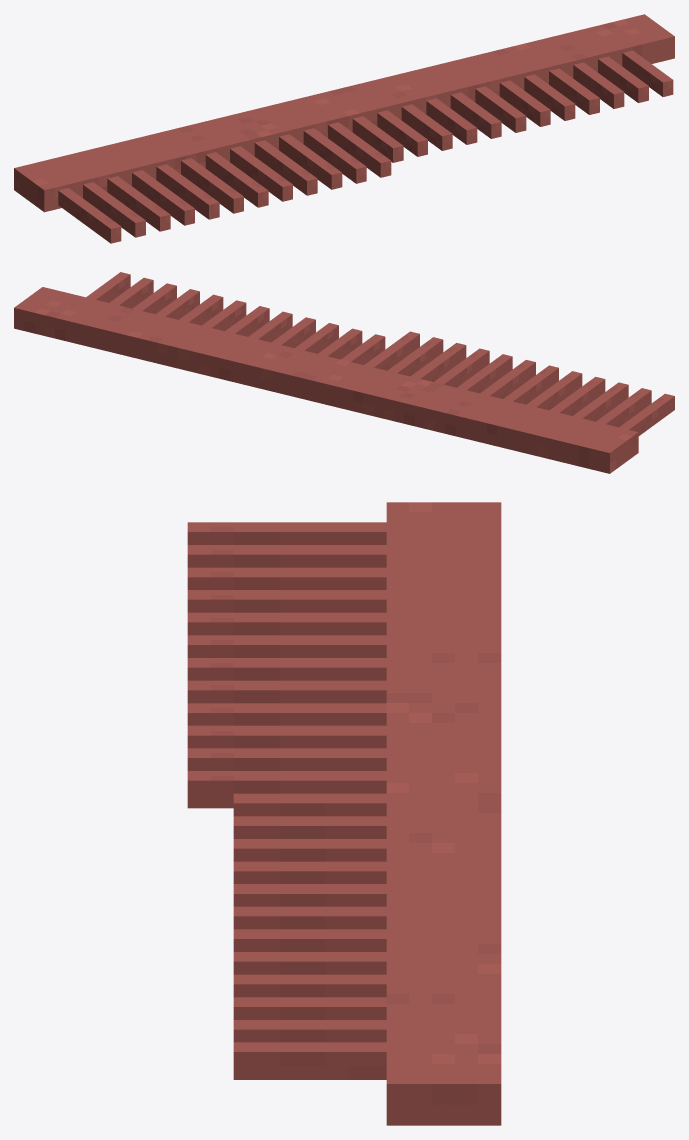
File: comb_pocket.glb
3 renders of one model, top to bottom at view 1: azimuth 30°, elevation 25°; view 2: azimuth 150°, elevation 25°; view 3: azimuth 270°, elevation 25°, orthographic. The views are drawn at different scales.
Parts seen in each view (by area): view 1: block_comb spine, block_tooth 0, block_tooth 2, block_tooth 4, block_tooth 11, block_tooth 6, block_tooth 8, block_tooth 9, block_tooth 10, block_tooth 1, block_tooth 3, block_tooth 5 (+13 smaller); view 2: block_comb spine, block_tooth 0, block_tooth 4, block_tooth 10, block_tooth 2, block_tooth 9, block_tooth 3, block_tooth 8, block_tooth 7, block_tooth 1, block_tooth 5, block_tooth 11 (+13 smaller); view 3: block_comb spine, block_tooth 23, block_tooth 11, block_tooth 4, block_tooth 7, block_tooth 9, block_tooth 0, block_tooth 1, block_tooth 3, block_tooth 5, block_tooth 6, block_tooth 8 (+13 smaller).
Part boxes in pixels (bbox=[...]): block_comb spine: bbox=[14, 14, 674, 212]; block_tooth 0: bbox=[58, 188, 121, 243]; block_tooth 2: bbox=[107, 176, 170, 231]; block_tooth 4: bbox=[156, 164, 219, 219]; block_tooth 11: bbox=[328, 122, 391, 177]; block_tooth 6: bbox=[205, 152, 268, 207]; block_tooth 8: bbox=[254, 140, 317, 195]; block_tooth 9: bbox=[279, 134, 342, 189]; block_tooth 10: bbox=[303, 128, 366, 183]; block_tooth 1: bbox=[83, 182, 145, 237]; block_tooth 3: bbox=[132, 170, 194, 225]; block_tooth 5: bbox=[181, 158, 243, 213]; block_comb spine: bbox=[14, 287, 638, 473]; block_tooth 0: bbox=[619, 393, 674, 435]; block_tooth 4: bbox=[526, 371, 582, 410]; block_tooth 10: bbox=[387, 337, 443, 376]; block_tooth 2: bbox=[573, 382, 628, 421]; block_tooth 9: bbox=[410, 343, 466, 381]; block_tooth 3: bbox=[549, 376, 605, 415]; block_tooth 8: bbox=[434, 348, 489, 387]; block_tooth 7: bbox=[457, 354, 512, 393]; block_tooth 1: bbox=[596, 388, 651, 427]; block_tooth 5: bbox=[503, 365, 558, 404]; block_tooth 11: bbox=[364, 331, 419, 370]; block_comb spine: bbox=[386, 502, 501, 1125]; block_tooth 23: bbox=[233, 1042, 386, 1079]; block_tooth 11: bbox=[187, 771, 386, 808]; block_tooth 4: bbox=[187, 612, 386, 635]; block_tooth 7: bbox=[187, 680, 386, 703]; block_tooth 9: bbox=[187, 725, 386, 748]; block_tooth 0: bbox=[187, 522, 386, 544]; block_tooth 1: bbox=[187, 545, 386, 567]; block_tooth 3: bbox=[187, 590, 386, 612]; block_tooth 5: bbox=[187, 635, 386, 657]; block_tooth 6: bbox=[187, 658, 386, 680]; block_tooth 8: bbox=[187, 703, 386, 725].
Size of the model in its own units: 0.18 by 0.006 by 0.041.
1 material, 1 textured.
